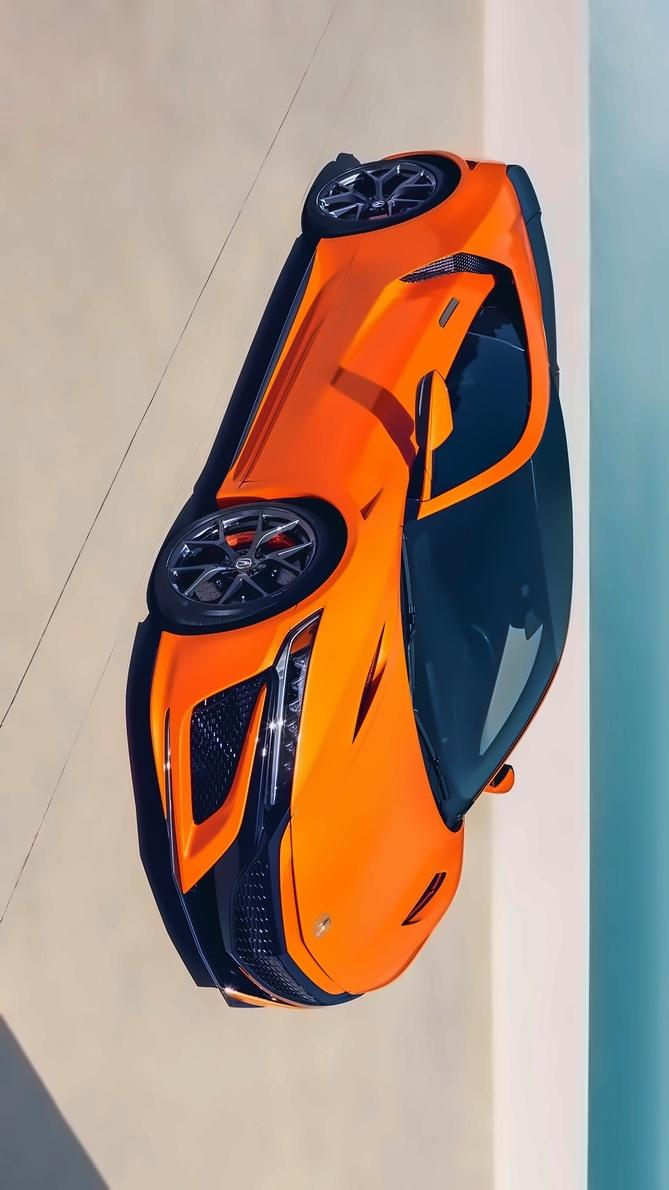Car hood: (266, 482, 474, 1010)
Driver-s door - -F-R-: (160, 388, 563, 526)
Fender - -F-R-: (176, 470, 423, 656)
Front bumper: (120, 568, 328, 1027)
Headlight - -R-: (247, 602, 328, 821)
Passenger-s door - -R-R-: (243, 224, 567, 400)
Side bumper - -R-: (184, 222, 362, 510)
Side mirror - -R-: (392, 364, 462, 478)
